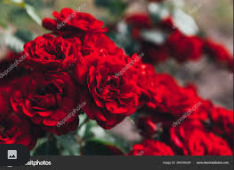RedRose: (78, 51, 143, 129), (17, 71, 84, 134)
